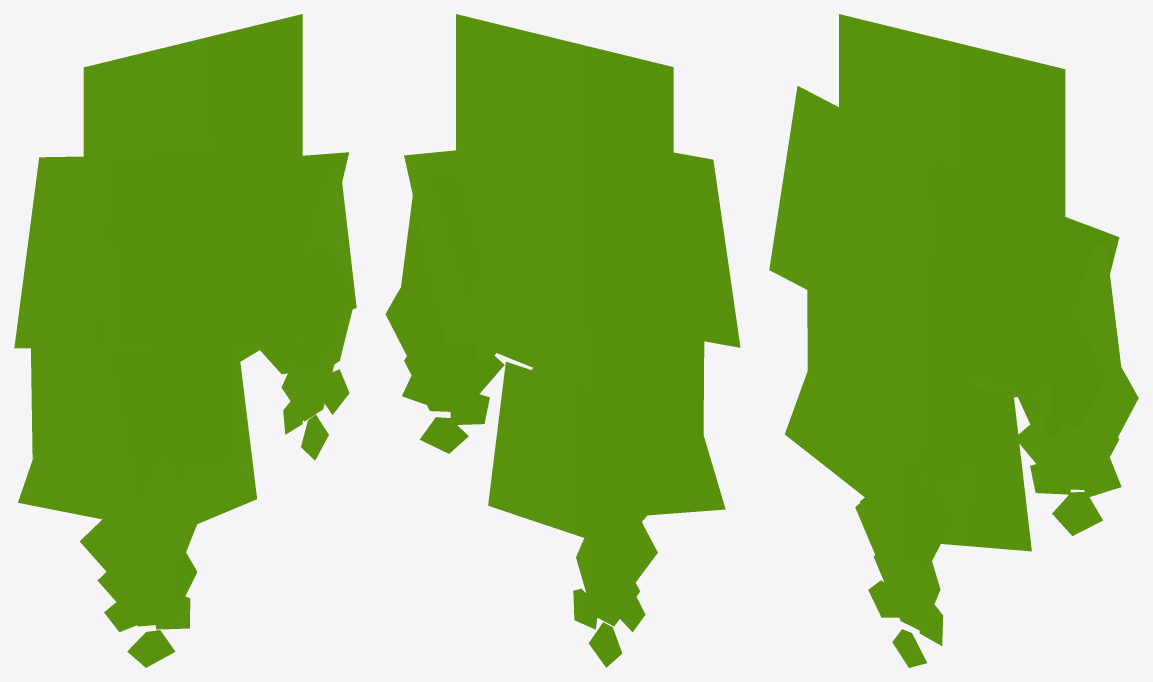
File: prop_Vine1.glb
3 renders of one model, left to right at view 1: azimuth 30°, elevation 25°; view 2: azimuth 150°, elevation 25°; view 3: azimuth 330°, elevation 25°, orthographic. The views are drawn at different scales.
Parts seen in each view (by area): view 1: Prop_Vine1; view 2: Prop_Vine1; view 3: Prop_Vine1.
Boxes of the visible parts, x1,y1,x2,y2 form: Prop_Vine1: (14, 14, 356, 667); Prop_Vine1: (385, 14, 740, 667); Prop_Vine1: (769, 14, 1138, 667).
Bounding box in the file's own units: 1.54 × 2.6 × 0.219.
1 material, 1 textured.
